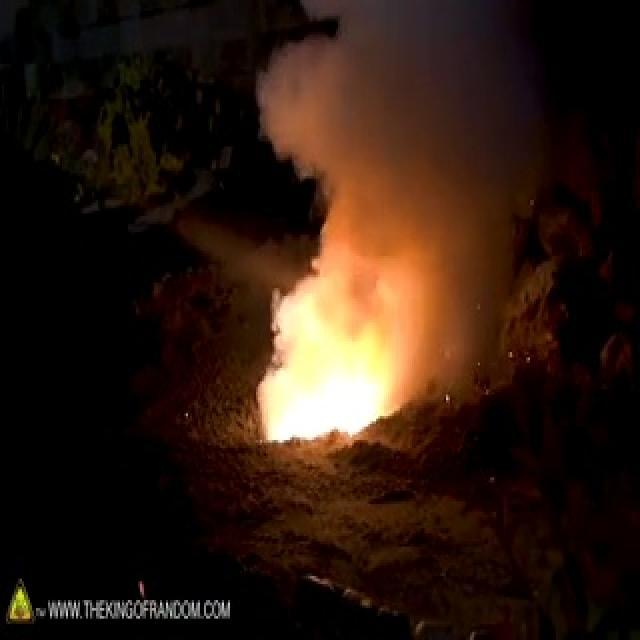Fire: (249, 301, 387, 447)
Smoke: (234, 5, 576, 312)
